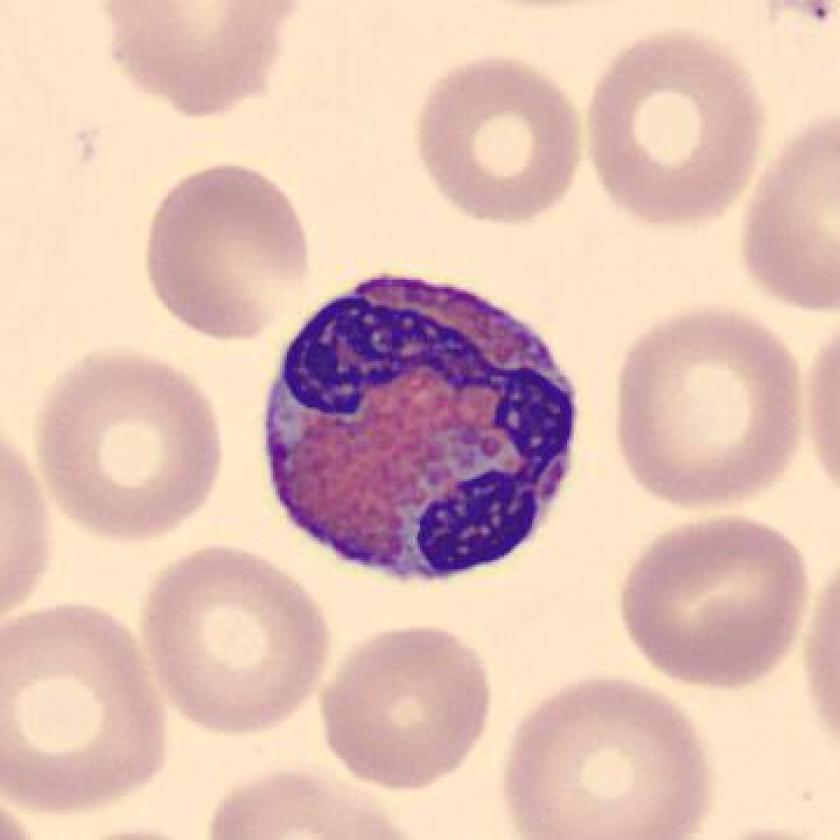eosinophil: (251, 263, 591, 596)
